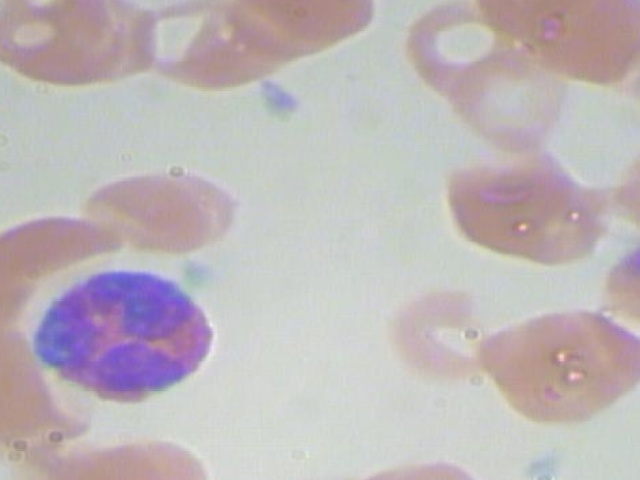Platelets: (251, 77, 308, 126)
RBC: (424, 153, 611, 266), (474, 307, 640, 429), (83, 161, 253, 258), (127, 0, 283, 93), (446, 52, 575, 156), (397, 0, 527, 98), (381, 287, 506, 383), (0, 0, 112, 71), (599, 233, 640, 336), (633, 44, 640, 147)
WBC: (16, 264, 232, 409)
